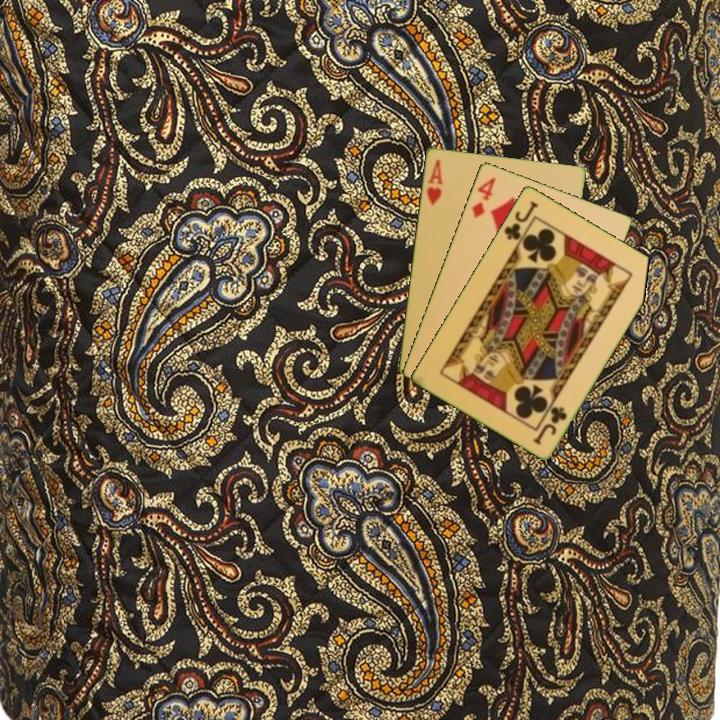4d: (468, 173, 499, 221)
Ah: (423, 156, 446, 208)
Jc: (500, 197, 541, 249), (530, 402, 570, 447)
